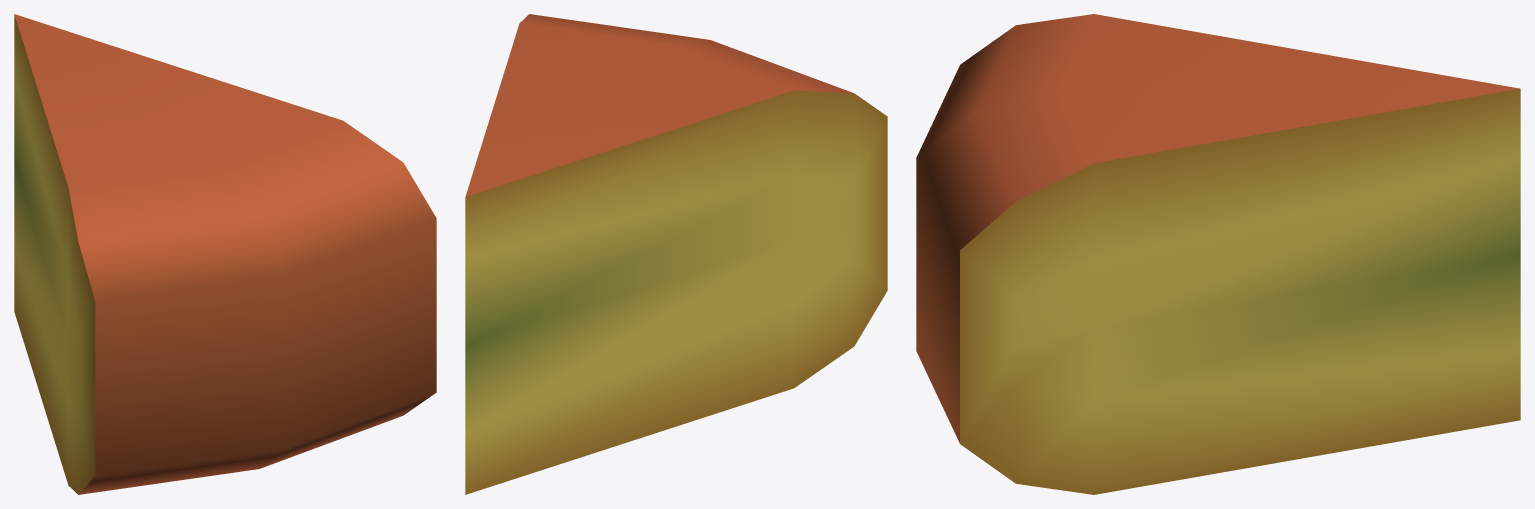
Rendered from CheeseWheel_Slice.fbx.
3 views of the same model, side by side, from view 1: azimuth 30°, elevation 25°; view 2: azimuth 150°, elevation 25°; view 3: azimuth 270°, elevation 25° (orthographic). The views are drawn at different scales.
Visible parts, largest first — view 1: CheeseWheel_Slice; view 2: CheeseWheel_Slice; view 3: CheeseWheel_Slice.
Boxes of the visible parts, bbox=[...] form: CheeseWheel_Slice: bbox=[14, 14, 436, 494]; CheeseWheel_Slice: bbox=[465, 14, 887, 494]; CheeseWheel_Slice: bbox=[916, 14, 1520, 494].
Size of the model in its own units: 32.86 by 27.39 by 45.21.
